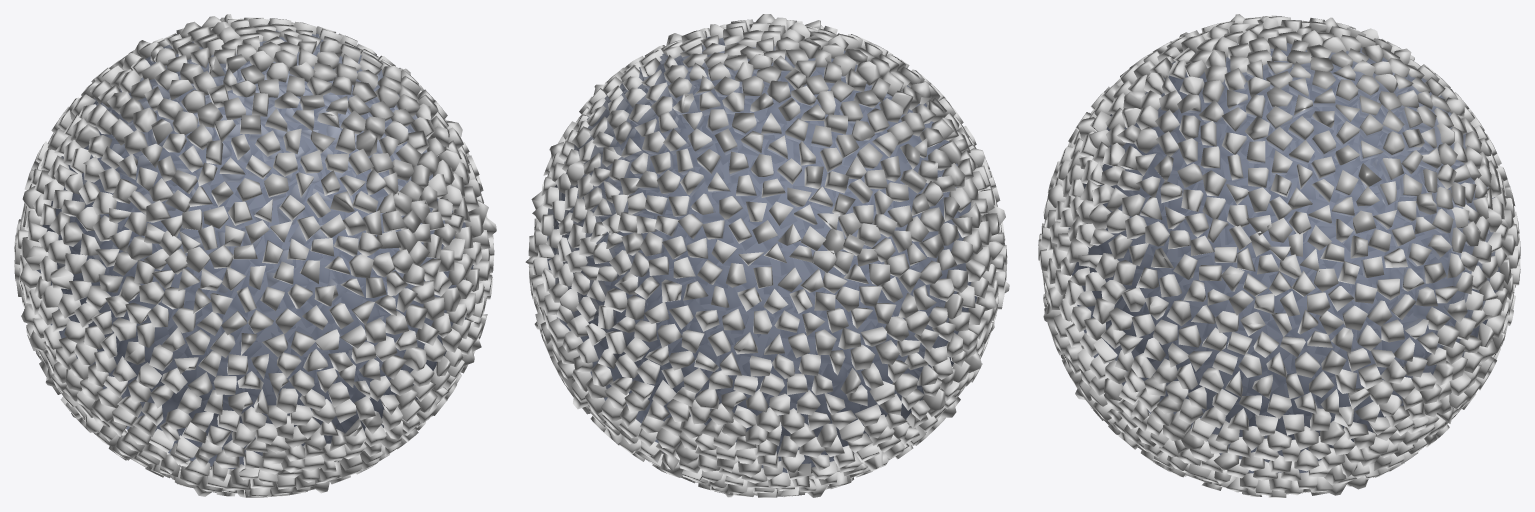
Rendered from AltNanoParticle.fbx.
3 renders of one model, left to right at view 1: azimuth 30°, elevation 25°; view 2: azimuth 150°, elevation 25°; view 3: azimuth 270°, elevation 25°, orthographic.
Parts seen in each view (by area): view 1: pasted__MASH1_ReproMesh.001, pSphere1; view 2: pasted__MASH1_ReproMesh.001, pSphere1; view 3: pasted__MASH1_ReproMesh.001, pSphere1.
Part boxes in pixels (x1,y1,x2,y2): pasted__MASH1_ReproMesh.001: (14, 14, 496, 497); pSphere1: (36, 30, 473, 469); pasted__MASH1_ReproMesh.001: (525, 14, 1009, 497); pSphere1: (547, 36, 976, 472); pasted__MASH1_ReproMesh.001: (1038, 14, 1520, 497); pSphere1: (1068, 42, 1500, 473).
Size of the model in its own units: 5.47 by 5.48 by 5.43.
